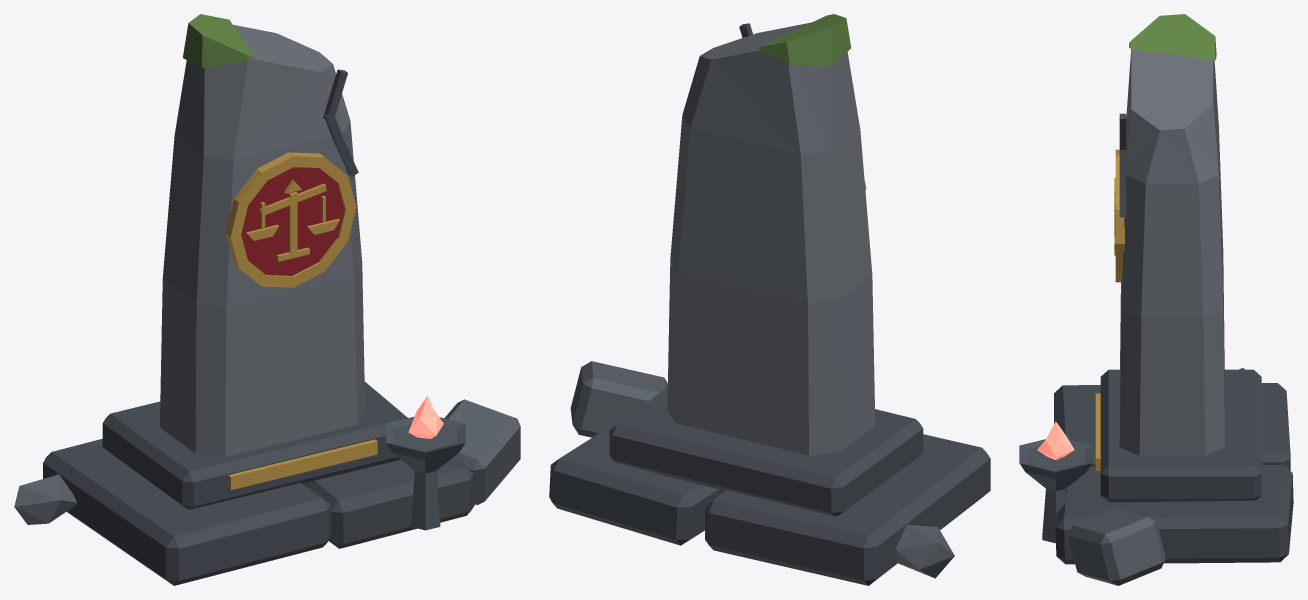
File: Shrine_Bargain.fbx
3 views of the same model, side by side, from view 1: azimuth 30°, elevation 25°; view 2: azimuth 150°, elevation 25°; view 3: azimuth 270°, elevation 25° (orthographic). The views are drawn at different scales.
Visible parts, largest first — view 1: Stone, Plinth, Gold, Chip, Sigil, Dish, Moss, Glow; view 2: Stone, Plinth, Chip, Moss; view 3: Stone, Plinth, Chip, Dish, Moss, Gold, Glow.
Boxes of the visible parts, <box> form: Stone: <box>160,24,365,456</box>; Plinth: <box>43,69,474,585</box>; Gold: <box>225,152,377,489</box>; Chip: <box>14,399,520,524</box>; Sigil: <box>241,167,344,275</box>; Dish: <box>386,416,465,530</box>; Moss: <box>183,14,254,67</box>; Glow: <box>408,396,443,438</box>; Stone: <box>667,22,875,455</box>; Plinth: <box>549,23,990,585</box>; Chip: <box>570,361,954,578</box>; Moss: <box>757,14,851,65</box>; Stone: <box>1119,48,1224,455</box>; Plinth: <box>1054,113,1293,564</box>; Chip: <box>1067,368,1244,585</box>; Dish: <box>1019,439,1092,543</box>; Moss: <box>1129,14,1216,60</box>; Gold: <box>1095,149,1124,470</box>; Glow: <box>1037,421,1074,459</box>.
Size of the model in its own units: 4.21 by 4.57 by 2.47.
